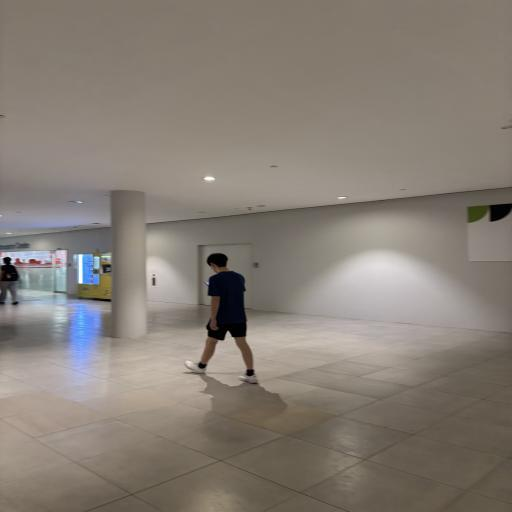person_left: (189, 252, 267, 388)
